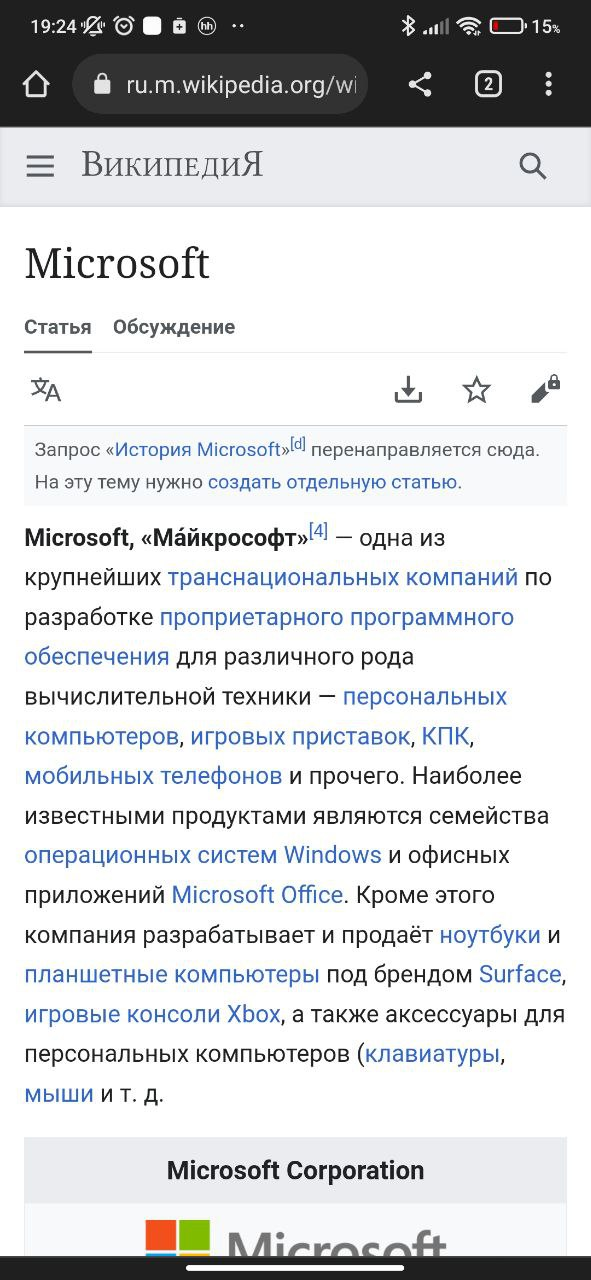burger_menu: (22, 151, 55, 182)
